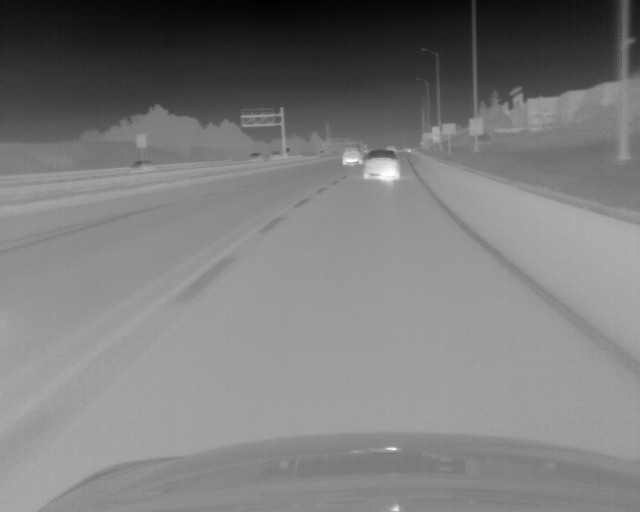car: (362, 148, 401, 180), (343, 146, 362, 165), (131, 158, 153, 167), (248, 150, 263, 158)
